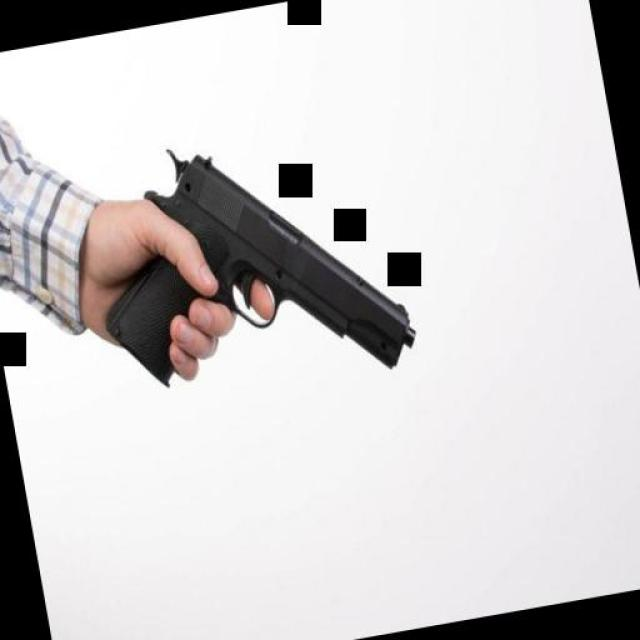gun: (74, 108, 420, 420)
